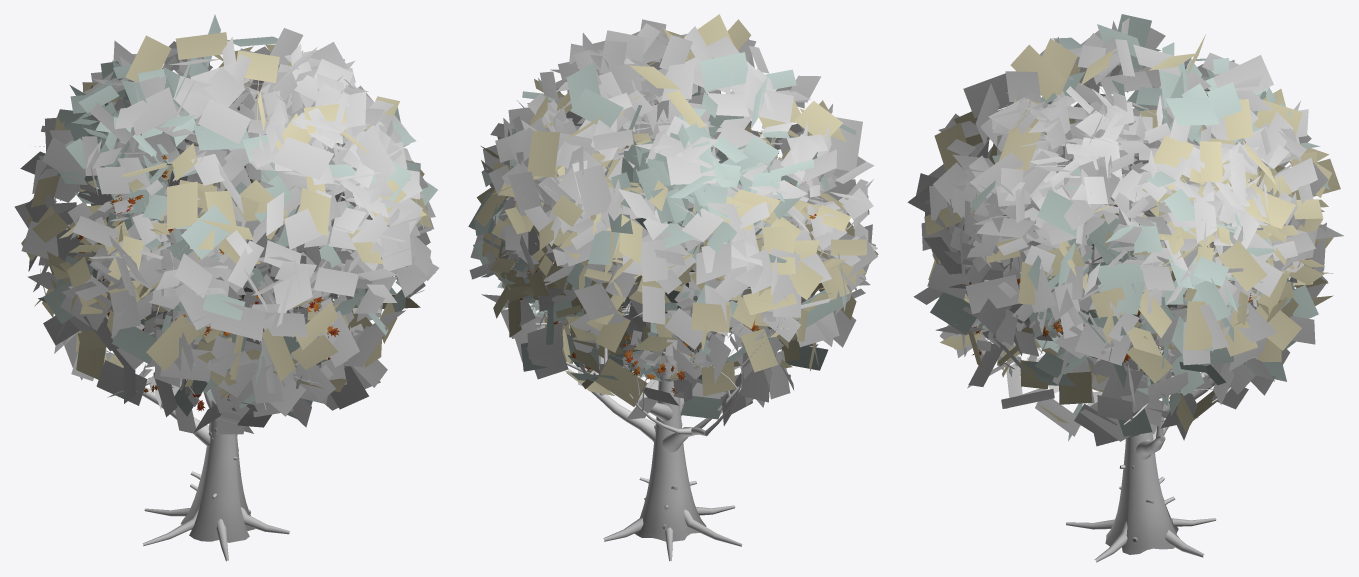
File: tree-maple-ultra.lod0.glb
The picture shows the model from 3 angles, left to right: view 1: azimuth 30°, elevation 25°; view 2: azimuth 150°, elevation 25°; view 3: azimuth 270°, elevation 25°; orthographic projection. The views are drawn at different scales.
Parts seen in each view (by area): view 1: tree-maple-ultra; view 2: tree-maple-ultra; view 3: tree-maple-ultra.
Part boxes in pixels (<box>): tree-maple-ultra: <box>14,14,438,561</box>; tree-maple-ultra: <box>468,14,878,561</box>; tree-maple-ultra: <box>907,14,1343,562</box>.
Size of the model in its own units: 2.9 by 3.69 by 2.91.
